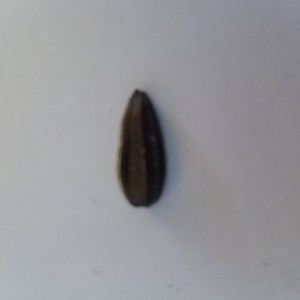girasol: (112, 84, 169, 212)
